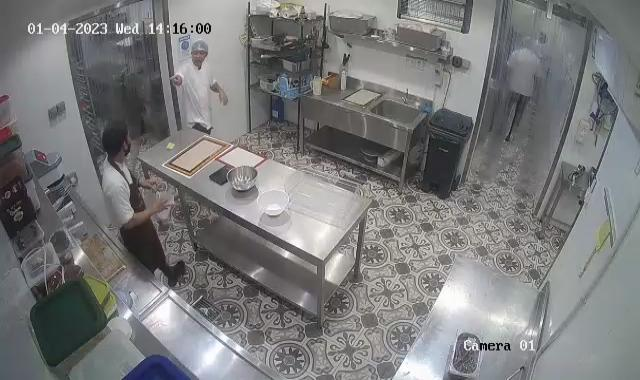hairnet: (190, 40, 210, 56)
no_hairnet: (101, 119, 130, 156)
